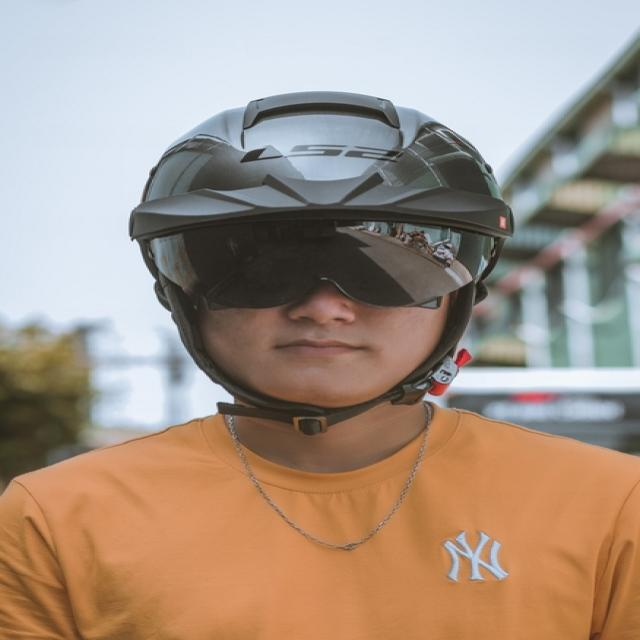Helmet: (121, 83, 524, 435)
